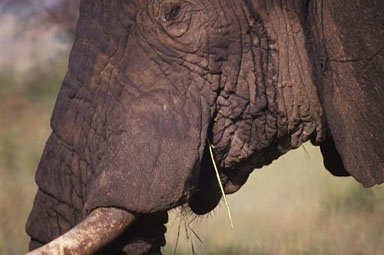elephant: (20, 0, 384, 254)
